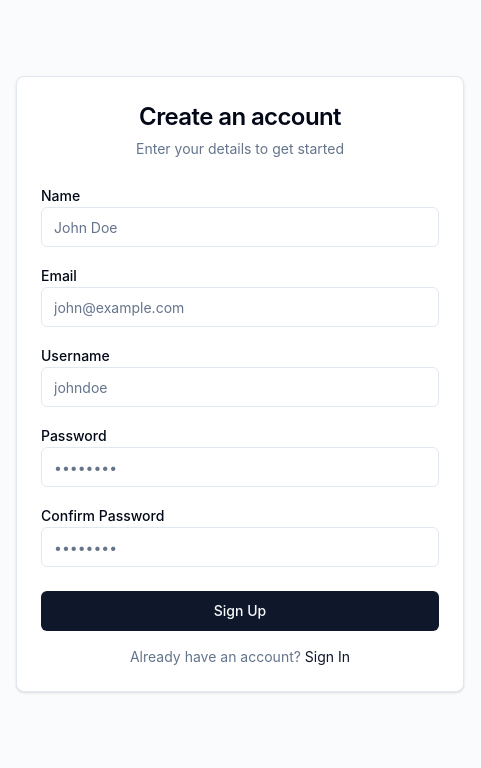
RegisterPage › validates password minimum length
The width and height of the screenshot is (481, 768).
Type "short" into the password field labelled "Password" at (240, 467), box [41,447,439,487]
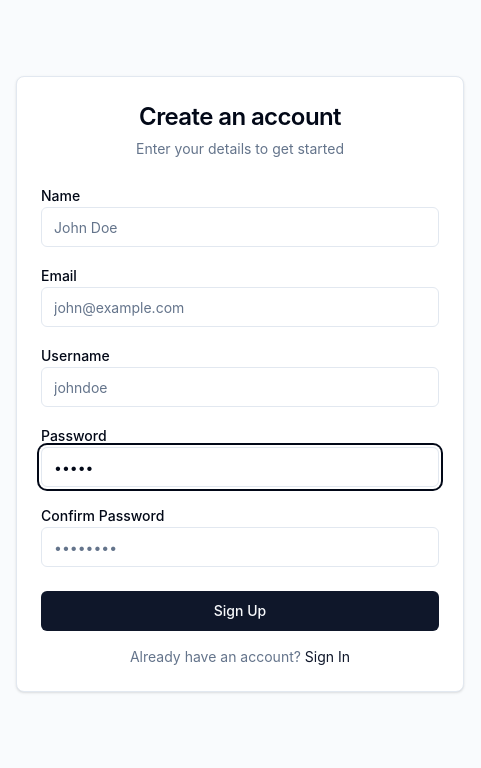
Press Tab
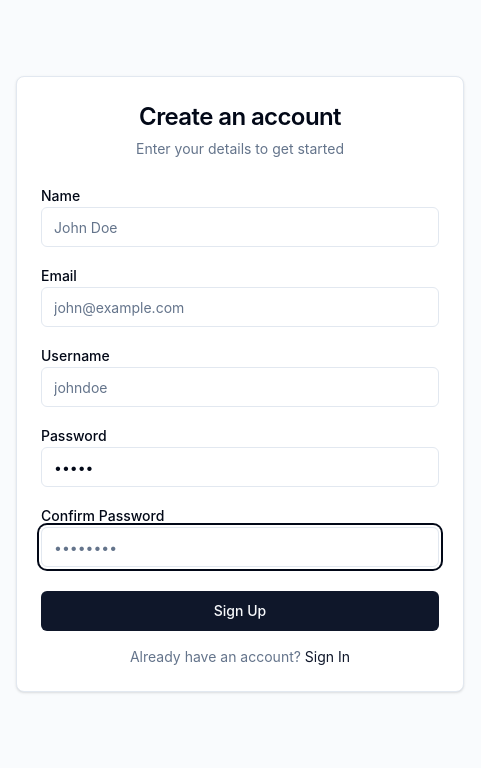
Click the button "Sign Up" at (240, 611), box [41,591,439,631]
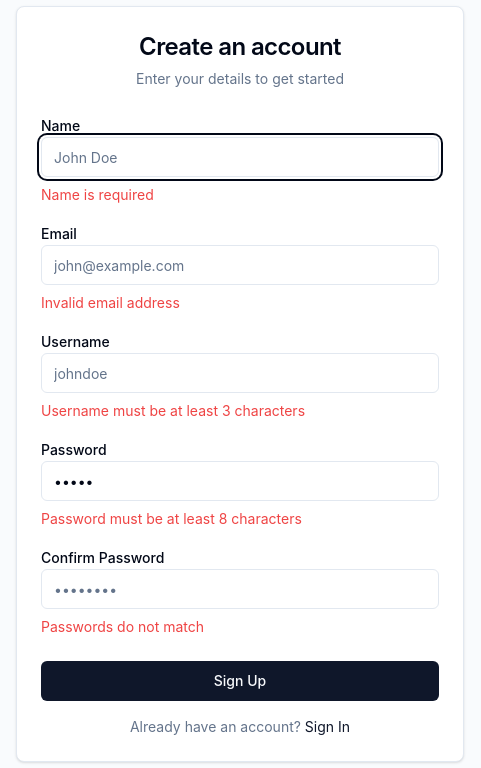
Result: the text "Password must be at least 8 characters" is shown at [41,510,302,527]
